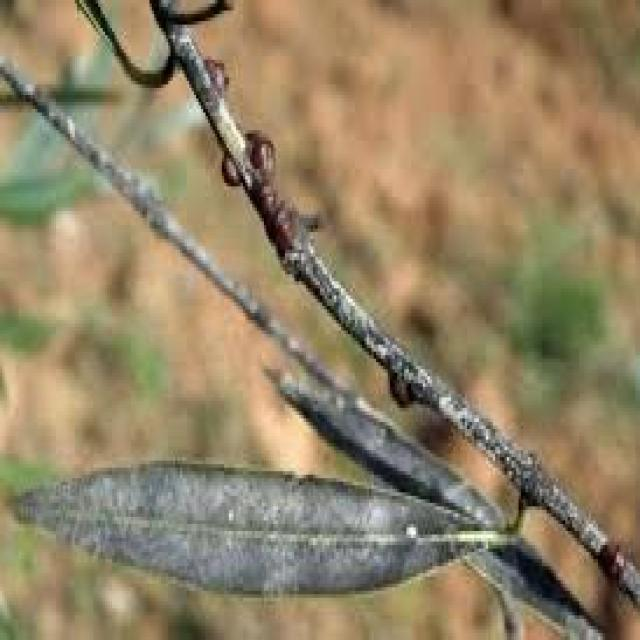Black Scale: (224, 130, 318, 260)
